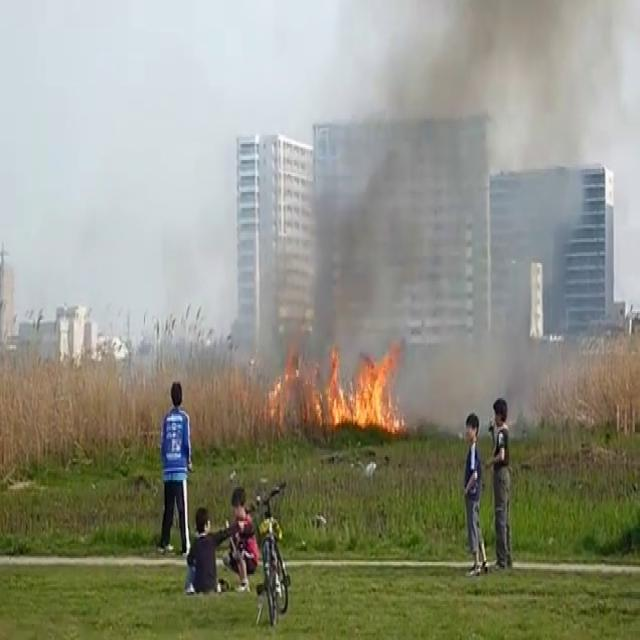Fire: (316, 334, 406, 426), (260, 364, 298, 426)
Smoke: (294, 0, 640, 370)
